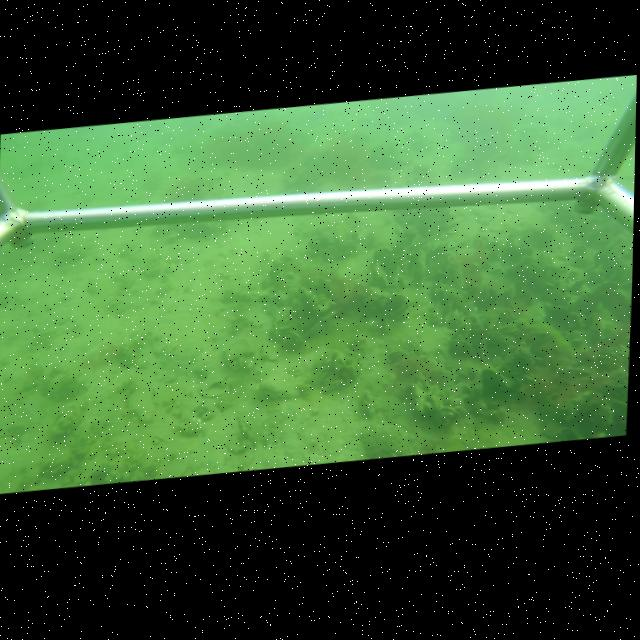Oyster-Closed: (254, 371, 311, 399), (319, 377, 346, 395), (414, 368, 433, 390)
Oyster-Indeterminate: (482, 366, 507, 393), (277, 330, 304, 351)
